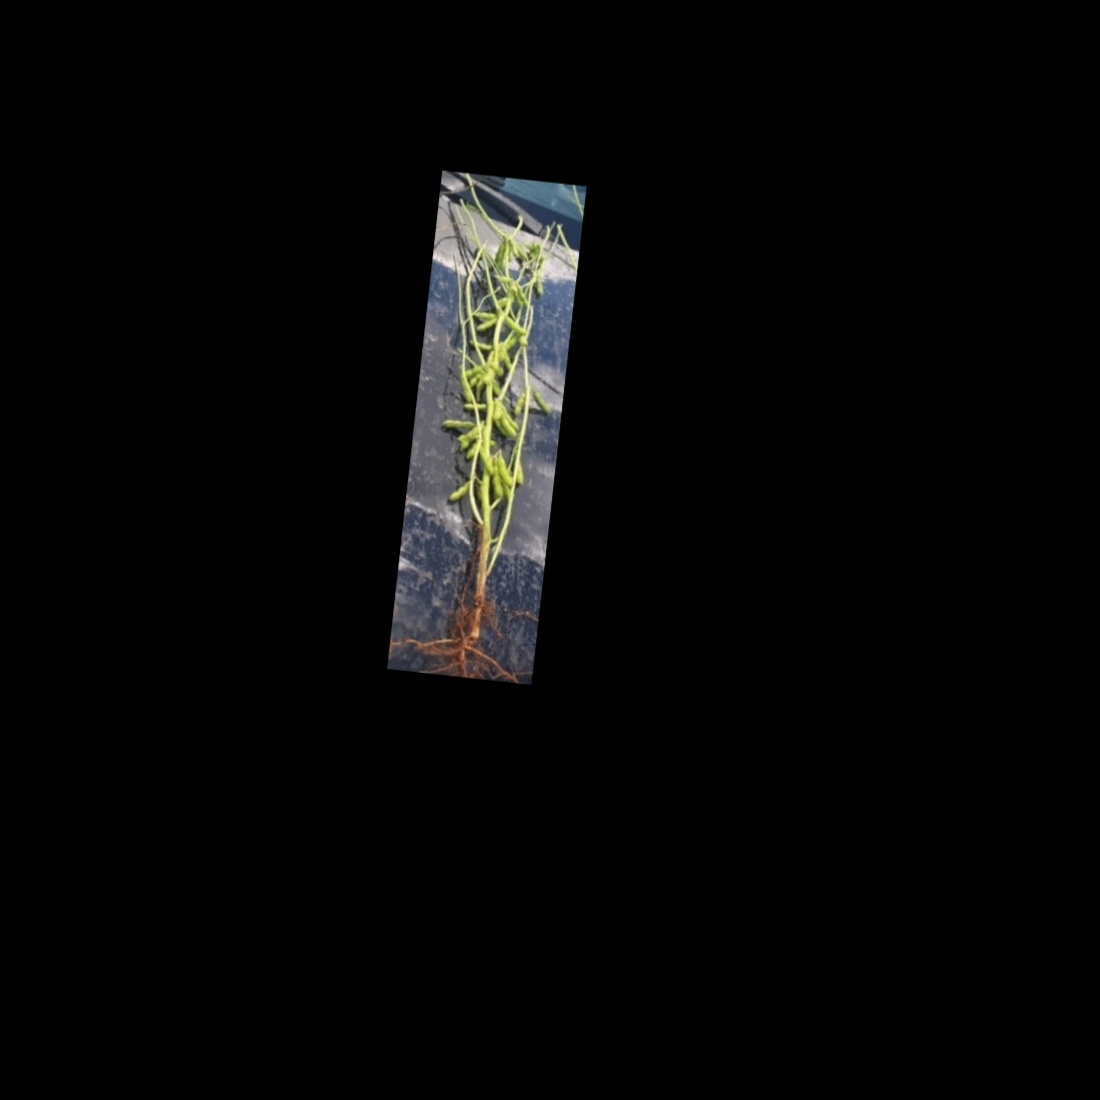pod: (497, 311, 532, 337), (491, 454, 517, 488), (472, 310, 502, 339), (486, 462, 507, 499), (527, 390, 555, 417), (438, 414, 477, 433), (446, 476, 471, 506), (531, 272, 547, 298), (491, 271, 516, 287)
soy: (402, 211, 576, 653)
